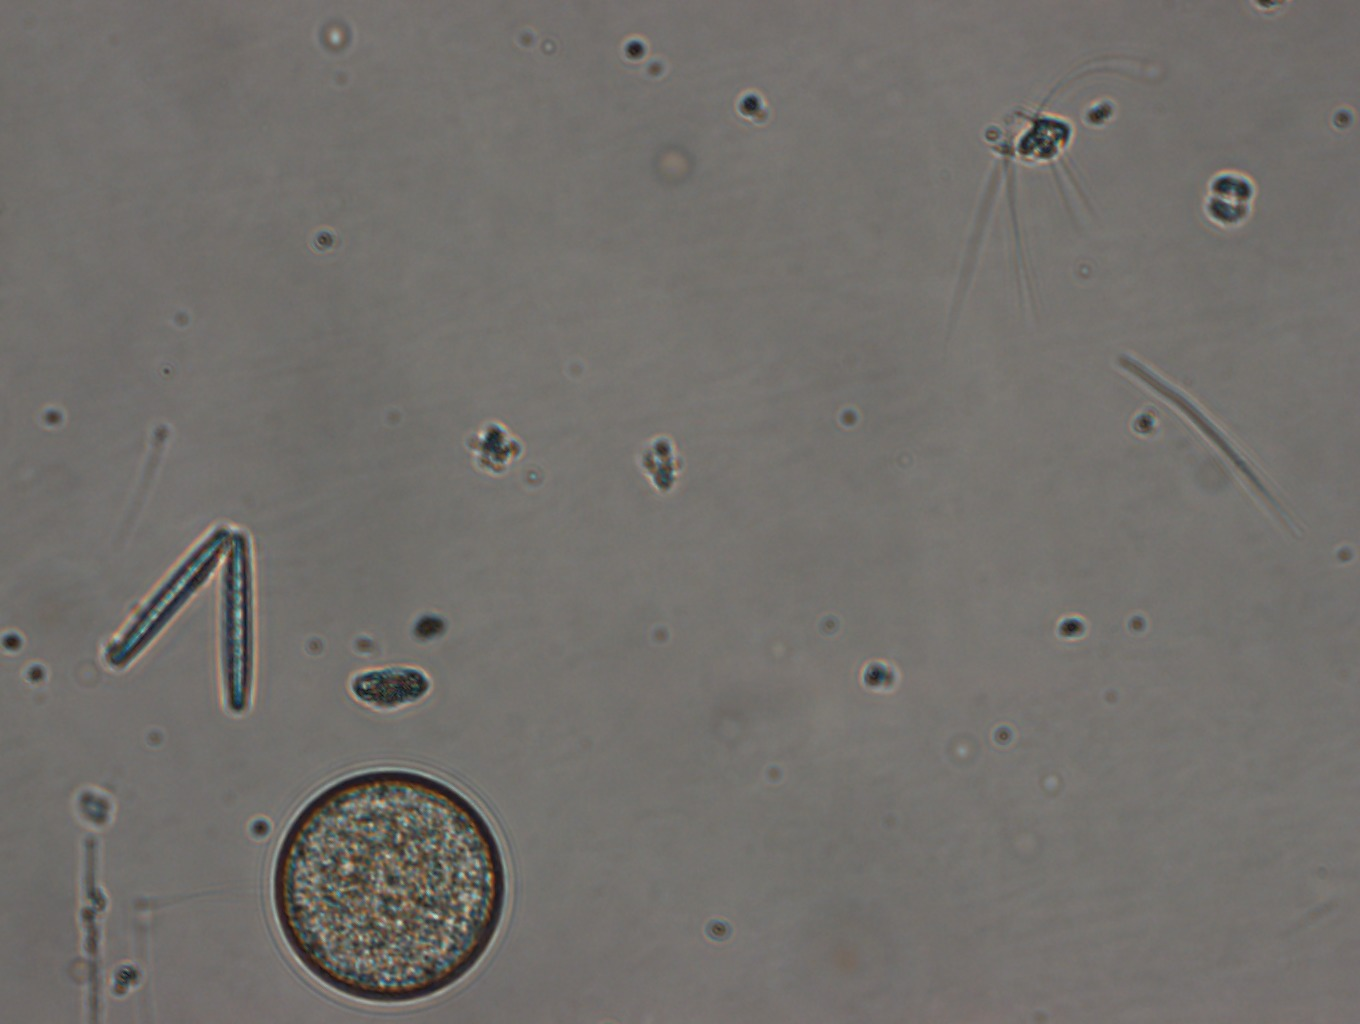coscinodiscus: (264, 765, 513, 1009)
thalassionema nitzschioides: (105, 513, 272, 709)
